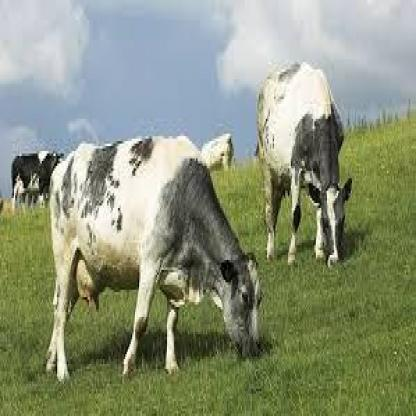cow: (44, 134, 263, 384), (257, 60, 352, 268), (11, 151, 64, 208), (199, 132, 235, 173)
